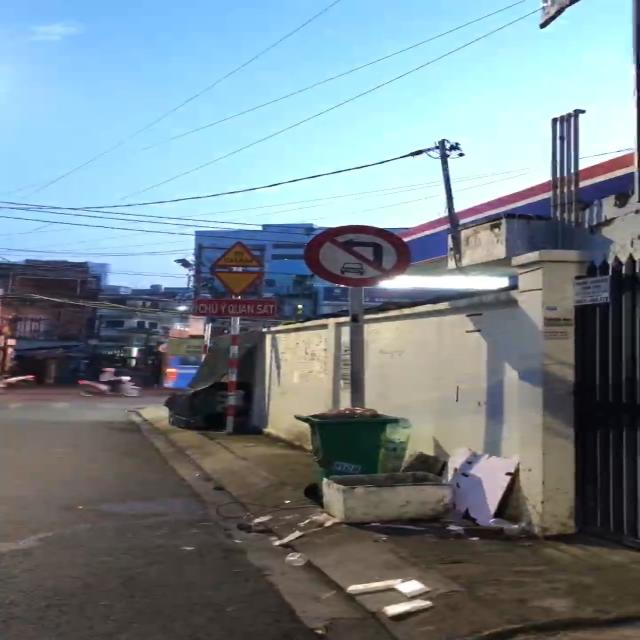Bien bao di cham: (207, 240, 263, 268)
Bien bao giao nhau voi duong uu tien: (207, 267, 268, 300)
